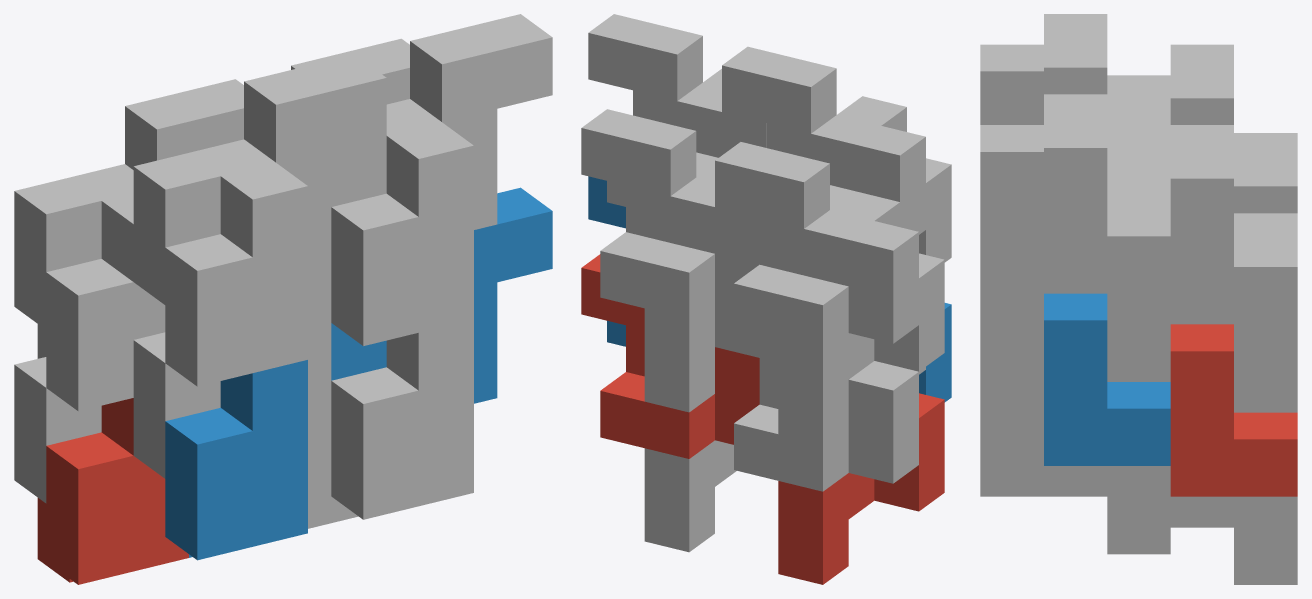
The model's file is tiling.obj.
3 views of the same model, side by side, from view 1: azimuth 30°, elevation 25°; view 2: azimuth 150°, elevation 25°; view 3: azimuth 270°, elevation 25° (orthographic). The views are drawn at different scales.
Visible parts, largest first — view 1: copy_1_domain_4, copy_1_domain_8, copy_2_domain_4, copy_1_domain_6, copy_1_domain_2, copy_2_domain_8, copy_1_domain_1, copy_1_domain_3, copy_2_domain_3, copy_2_domain_6, copy_2_domain_2, copy_2_domain_1 (+2 smaller); view 2: copy_2_domain_3, copy_2_domain_7, copy_2_domain_1, copy_1_domain_3, copy_2_domain_4, copy_2_domain_5, copy_1_domain_1, copy_2_domain_8, copy_1_domain_7, copy_1_domain_5, copy_1_domain_4, copy_1_domain_8 (+2 smaller); view 3: copy_2_domain_7, copy_2_domain_8, copy_1_domain_6, copy_1_domain_8, copy_2_domain_5, copy_2_domain_6, copy_2_domain_3, copy_2_domain_4, copy_1_domain_5, copy_1_domain_7, copy_1_domain_4, copy_1_domain_3.
Part boxes in pixels (x1=…): copy_1_domain_4: x1=165, y1=139, x2=307, y2=386; copy_1_domain_8: x1=331, y1=99, x2=473, y2=345; copy_2_domain_4: x1=133, y1=54, x2=386, y2=304; copy_1_domain_6: x1=331, y1=319, x2=473, y2=519; copy_1_domain_2: x1=165, y1=360, x2=307, y2=560; copy_2_domain_8: x1=331, y1=14, x2=552, y2=229; copy_1_domain_1: x1=37, y1=398, x2=188, y2=584; copy_1_domain_3: x1=37, y1=164, x2=165, y2=411; copy_2_domain_3: x1=14, y1=79, x2=243, y2=329; copy_2_domain_6: x1=331, y1=187, x2=552, y2=403; copy_2_domain_2: x1=133, y1=265, x2=331, y2=478; copy_2_domain_1: x1=14, y1=357, x2=101, y2=503; copy_2_domain_3: x1=715, y1=142, x2=918, y2=351; copy_2_domain_7: x1=581, y1=109, x2=759, y2=318; copy_2_domain_1: x1=715, y1=300, x2=918, y2=491; copy_1_domain_3: x1=778, y1=191, x2=944, y2=444; copy_2_domain_4: x1=722, y1=46, x2=925, y2=234; copy_2_domain_5: x1=581, y1=254, x2=759, y2=458; copy_1_domain_1: x1=778, y1=393, x2=944, y2=584; copy_2_domain_8: x1=588, y1=14, x2=766, y2=206; copy_1_domain_7: x1=644, y1=164, x2=714, y2=412; copy_1_domain_5: x1=644, y1=440, x2=736, y2=552; copy_1_domain_4: x1=811, y1=96, x2=951, y2=262; copy_1_domain_8: x1=677, y1=69, x2=721, y2=157; copy_2_domain_7: x1=1170, y1=125, x2=1297, y2=324; copy_2_domain_8: x1=1044, y1=94, x2=1170, y2=293; copy_1_domain_6: x1=980, y1=324, x2=1170, y2=554; copy_1_domain_8: x1=980, y1=125, x2=1170, y2=381; copy_2_domain_5: x1=1170, y1=324, x2=1297, y2=496; copy_2_domain_6: x1=1044, y1=293, x2=1170, y2=465; copy_2_domain_3: x1=1170, y1=44, x2=1297, y2=213; copy_2_domain_4: x1=1044, y1=14, x2=1170, y2=155; copy_1_domain_5: x1=1170, y1=496, x2=1297, y2=584; copy_1_domain_7: x1=1107, y1=155, x2=1297, y2=412; copy_1_domain_4: x1=980, y1=44, x2=1043, y2=124; copy_1_domain_3: x1=1107, y1=75, x2=1170, y2=102.
Bounding box in the file's own units: 8 × 9 × 5.
